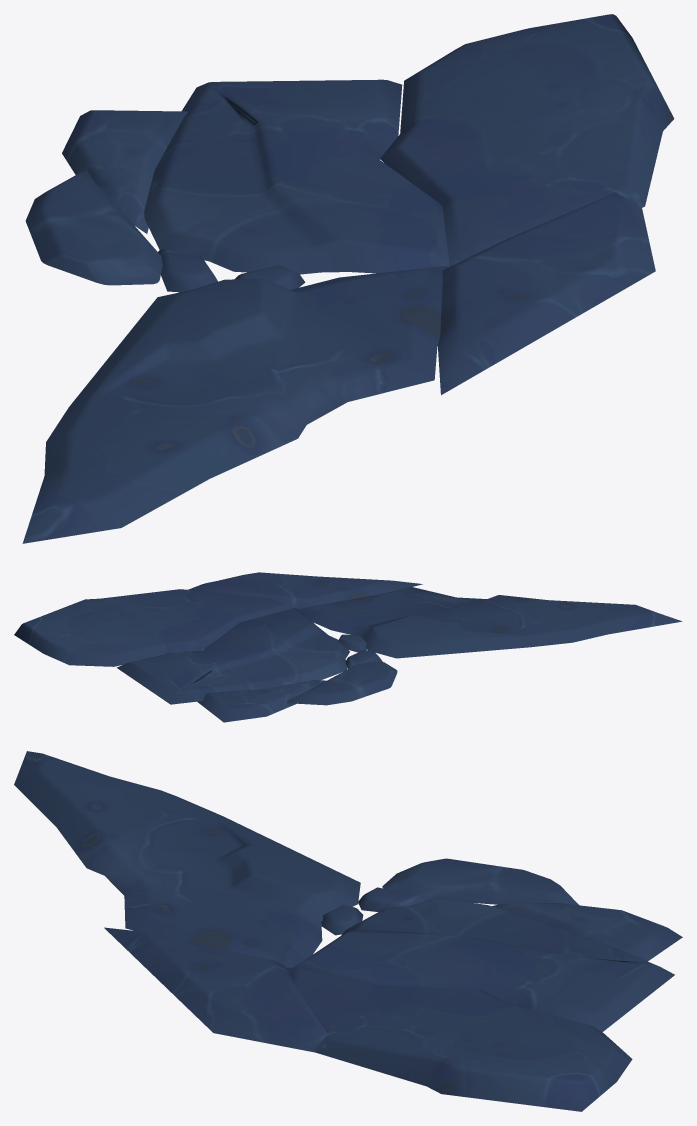
Rendered from SM_Discord_Terrain_Chunk_03.fbx.
The picture shows the model from 3 angles, top to bottom: view 1: azimuth 30°, elevation 25°; view 2: azimuth 150°, elevation 25°; view 3: azimuth 270°, elevation 25°; orthographic projection. The views are drawn at different scales.
Visible parts, largest first — view 1: SM_Discord_Terrain_Chunk_03; view 2: SM_Discord_Terrain_Chunk_03; view 3: SM_Discord_Terrain_Chunk_03.
Boxes of the visible parts, box(x1,y1,x2,y2) form: SM_Discord_Terrain_Chunk_03: box(22, 14, 674, 543); SM_Discord_Terrain_Chunk_03: box(14, 572, 682, 722); SM_Discord_Terrain_Chunk_03: box(14, 751, 682, 1111).
Bounding box in the file's own units: 1373 × 51.09 × 1072.
